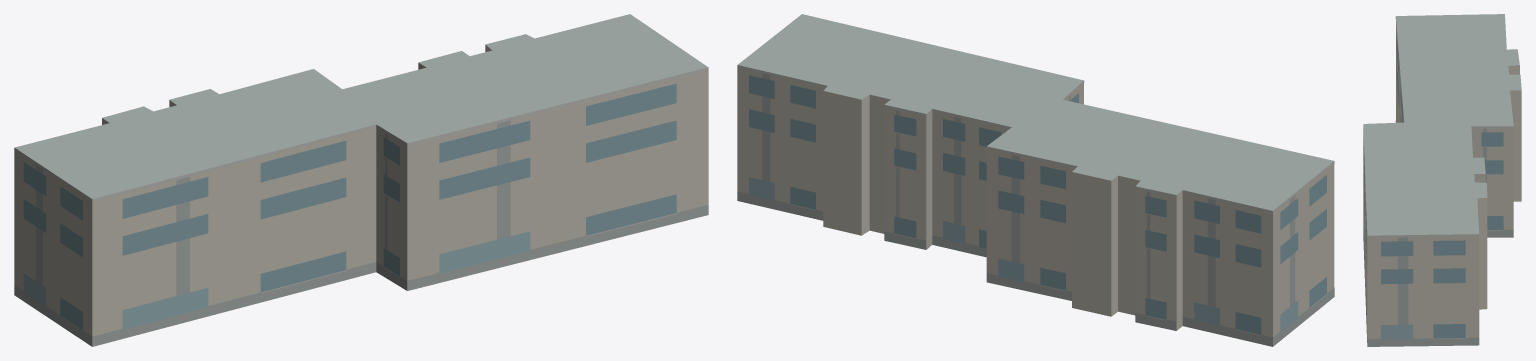
Rendered from survey-upis-32558179.glb.
The picture shows the model from 3 angles, left to right: view 1: azimuth 30°, elevation 25°; view 2: azimuth 150°, elevation 25°; view 3: azimuth 270°, elevation 25°; orthographic projection. The views are drawn at different scales.
Visible parts, largest first — view 1: survey-upis-32558179.tmp; view 2: survey-upis-32558179.tmp; view 3: survey-upis-32558179.tmp.
Boxes of the visible parts, box(x1,y1,x2,y2) form: survey-upis-32558179.tmp: box(14, 14, 708, 346); survey-upis-32558179.tmp: box(737, 14, 1334, 346); survey-upis-32558179.tmp: box(1363, 14, 1521, 346).
Size of the model in its own units: 52.11 by 12.2 by 15.74.
